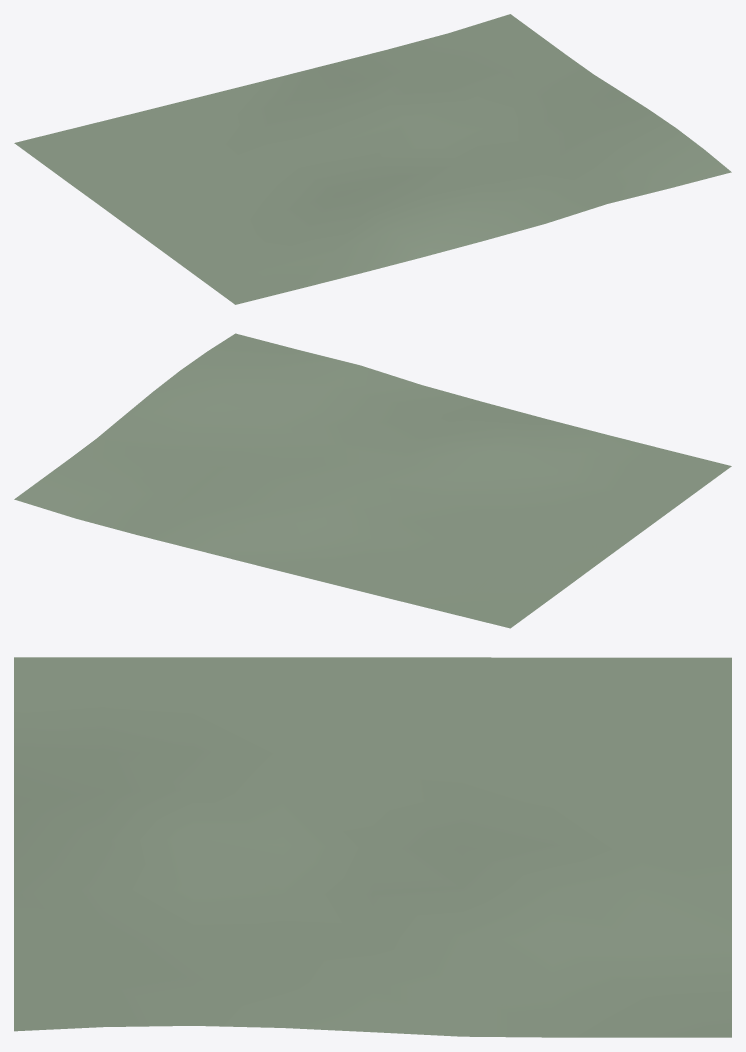
File: chunk_1_1_LOD2.glb
The picture shows the model from 3 angles, top to bottom: view 1: azimuth 30°, elevation 25°; view 2: azimuth 150°, elevation 25°; view 3: azimuth 270°, elevation 25°; orthographic projection. The views are drawn at different scales.
Size of the model in its own units: 110 by 3.2 by 85.
